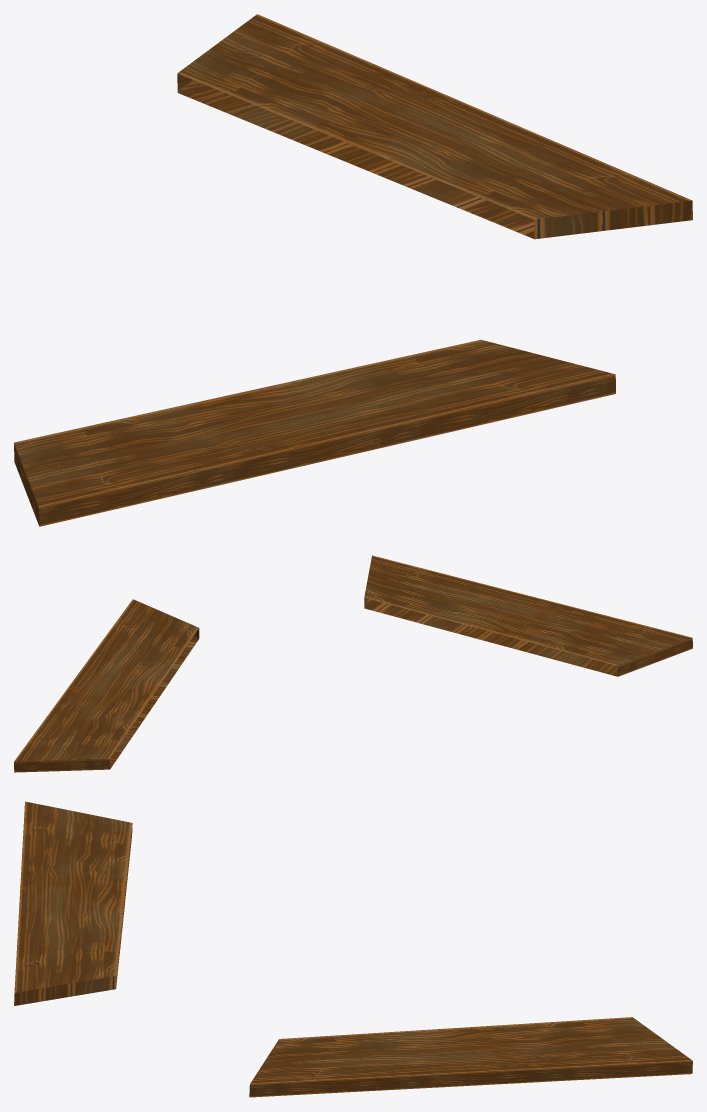
3 renders of one model, top to bottom at view 1: azimuth 30°, elevation 25°; view 2: azimuth 150°, elevation 25°; view 3: azimuth 270°, elevation 25°, orthographic. The views are drawn at different scales.
Visible parts, largest first — view 1: Cube.2075; view 2: Cube.2075; view 3: Cube.2075.
Part boxes in pixels (bbox=[...]): Cube.2075: bbox=[14, 14, 692, 526]; Cube.2075: bbox=[14, 555, 692, 772]; Cube.2075: bbox=[14, 801, 692, 1097].
Size of the model in its own units: 1697 by 105 by 1774.
Materials: 1 (1 with a texture image).
